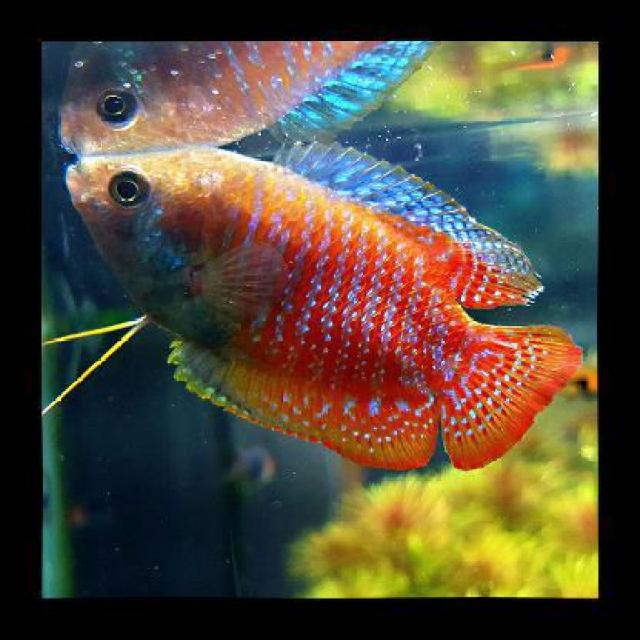Gourami: (58, 132, 588, 468)
